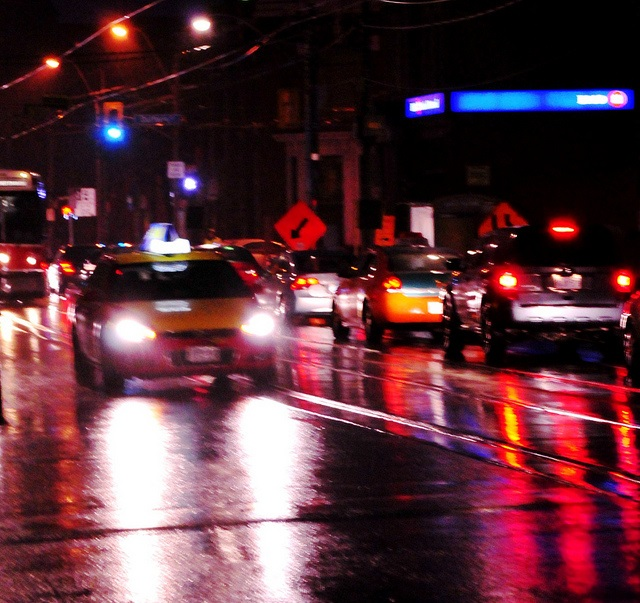car: (61, 218, 285, 401)
